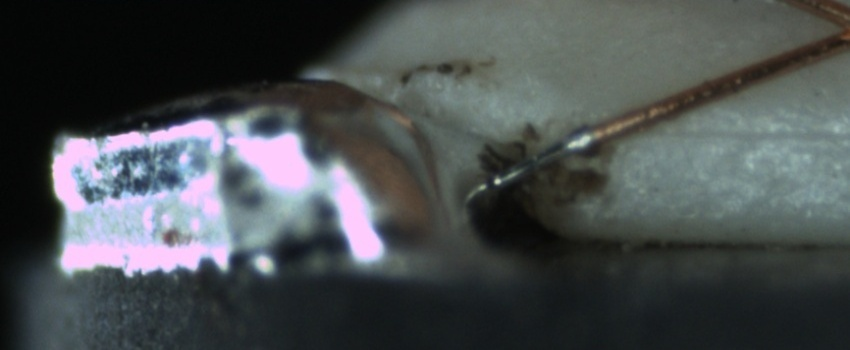CL: (809, 6, 849, 52)
DL: (640, 99, 850, 165)
TS: (470, 127, 598, 201)
TTCW: (470, 116, 620, 200)
